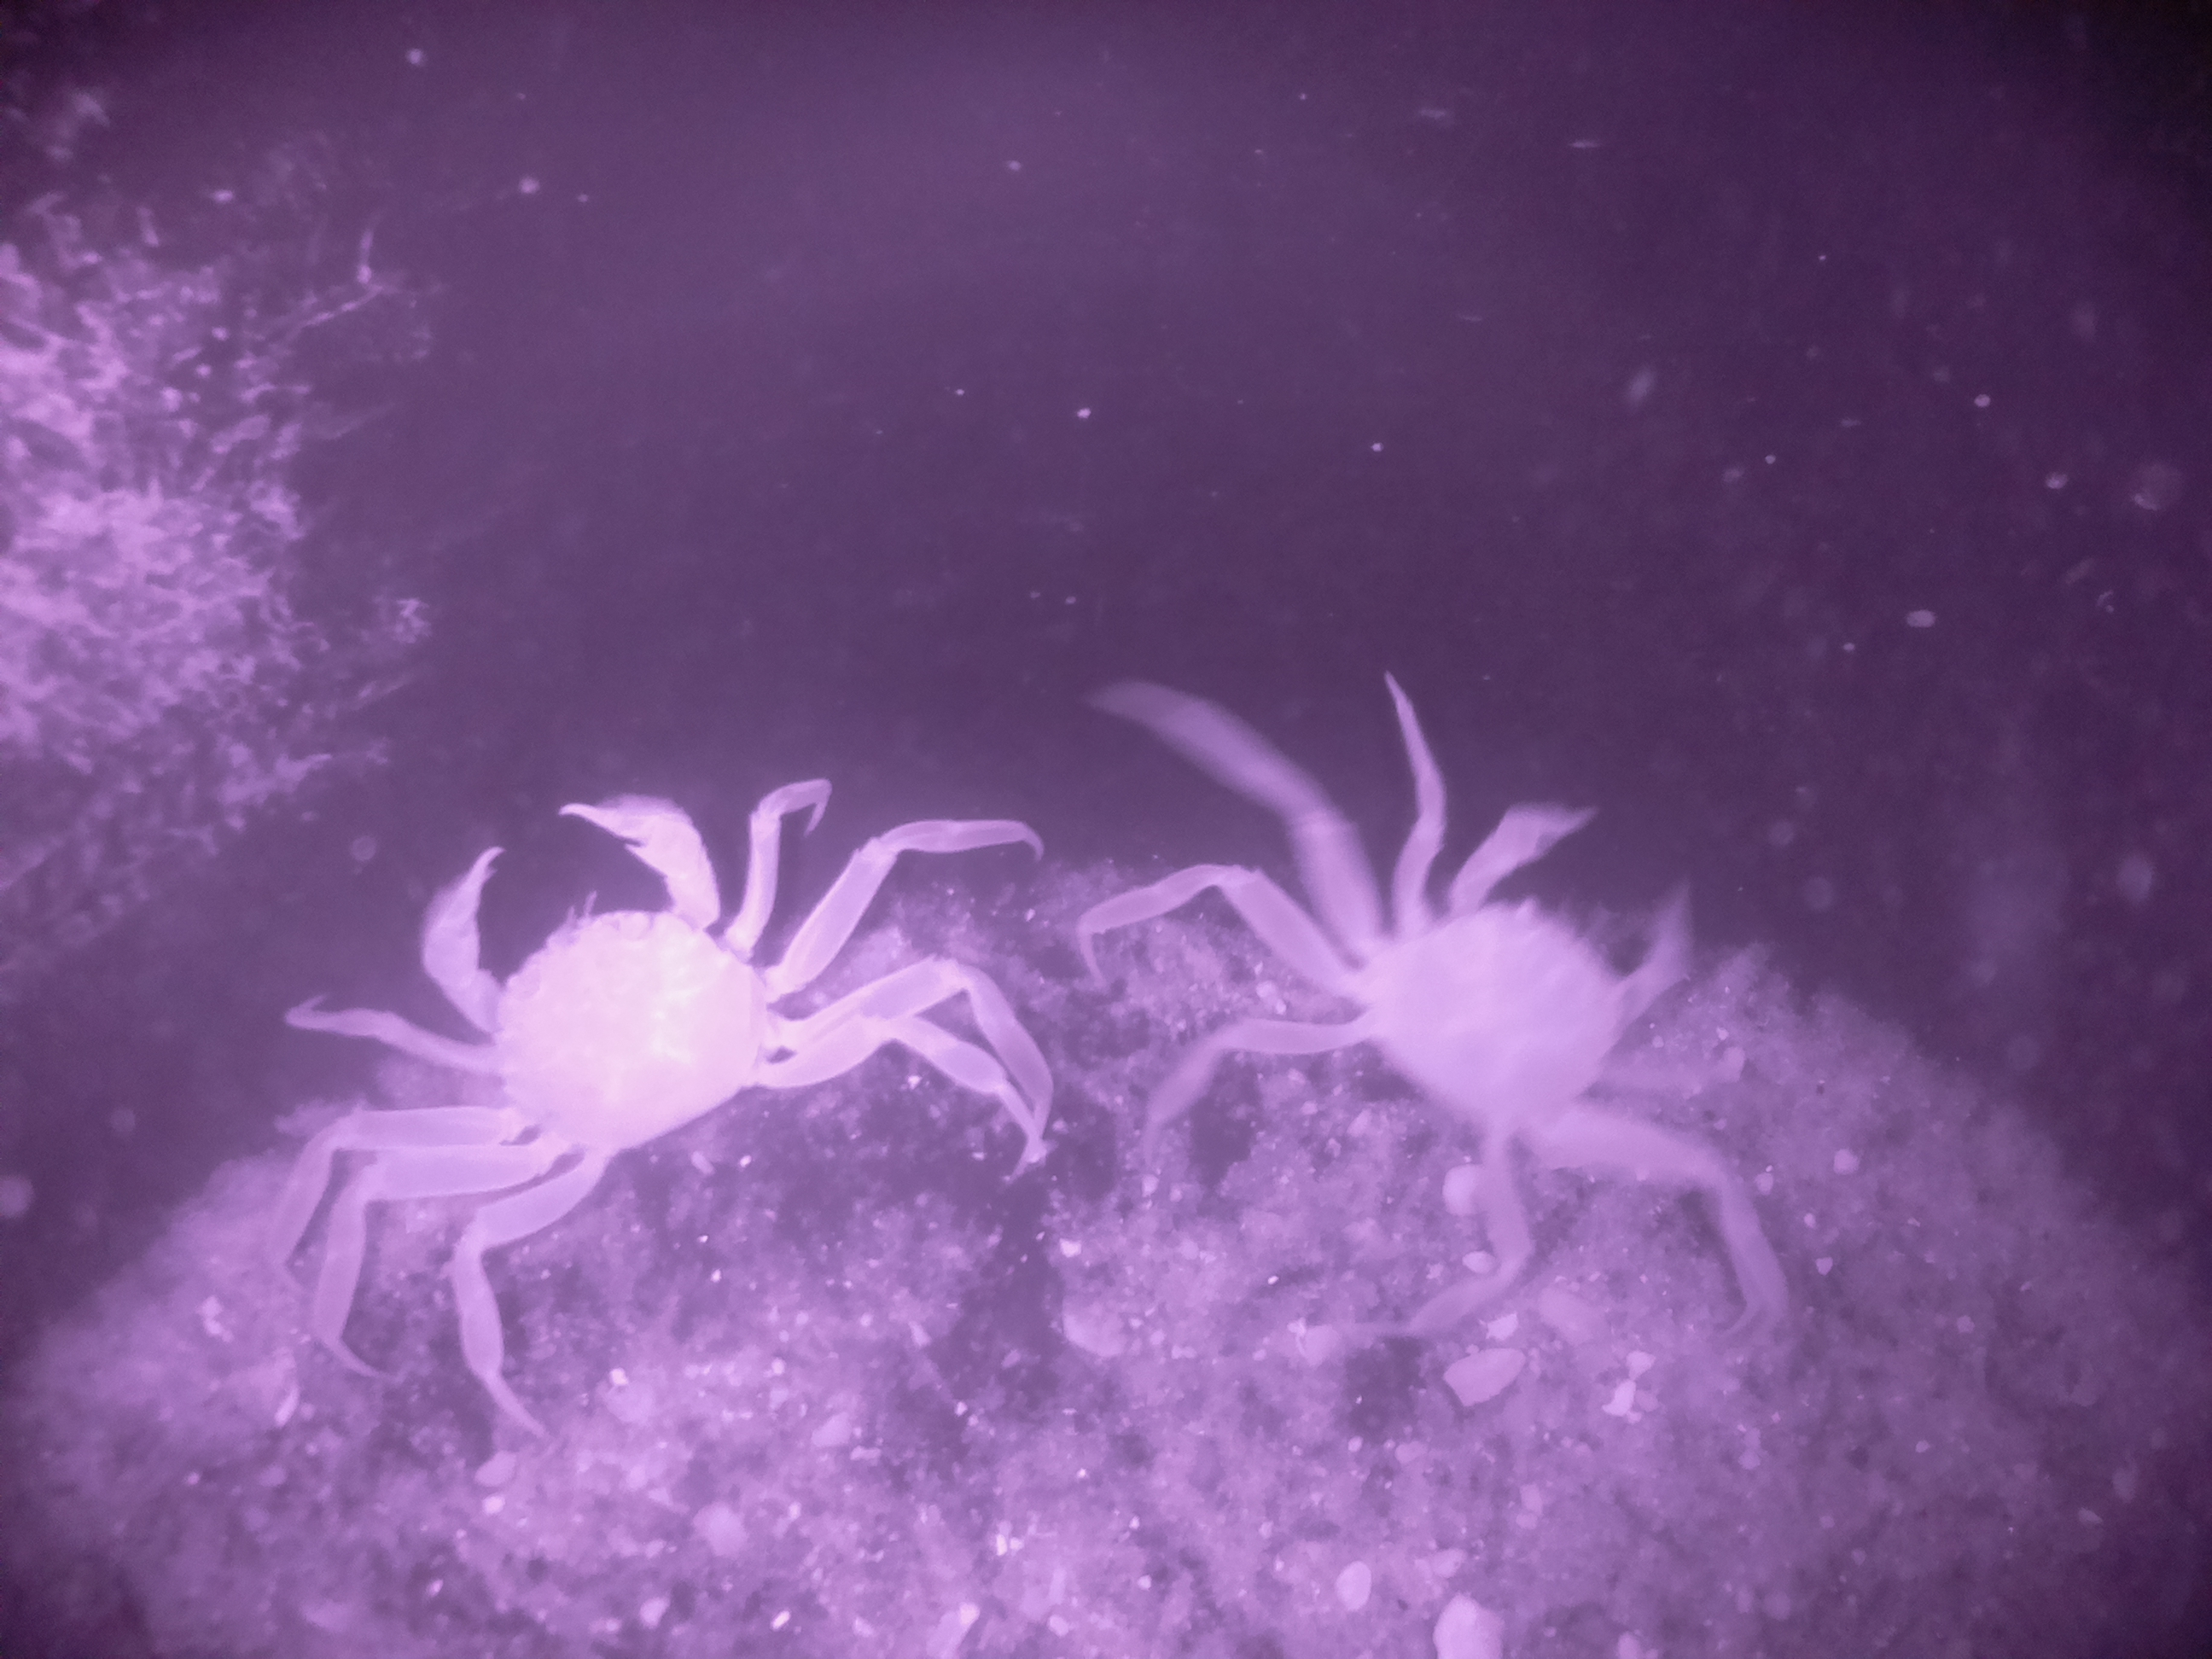Crab: (289, 770, 949, 1262), (1278, 704, 1778, 1218)
